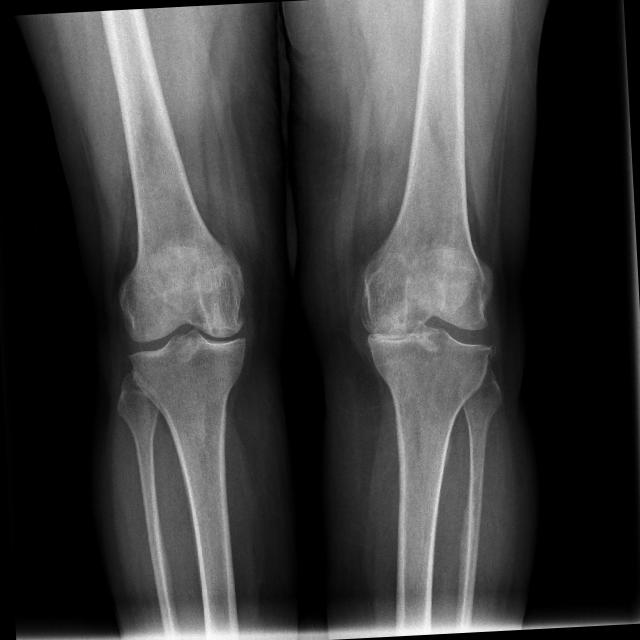Knee: (117, 251, 256, 414), (362, 254, 502, 394)
